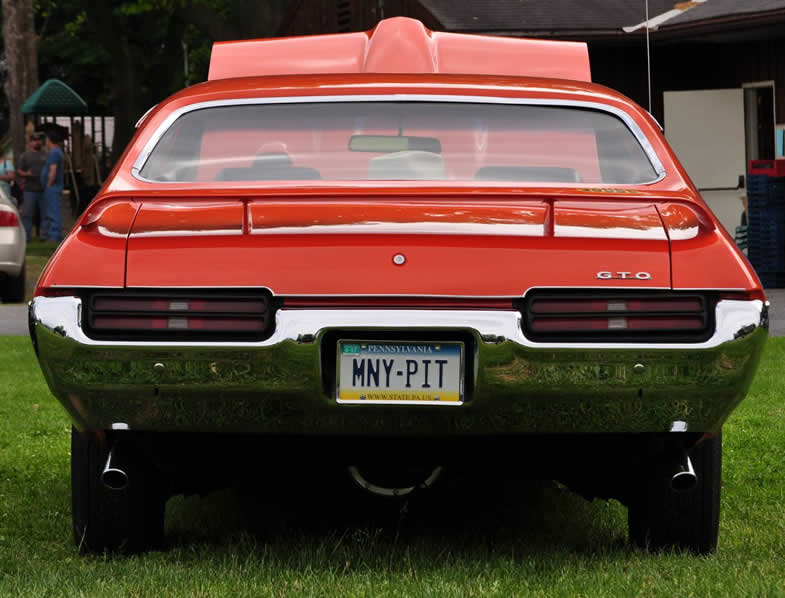license plate: (331, 335, 466, 411)
